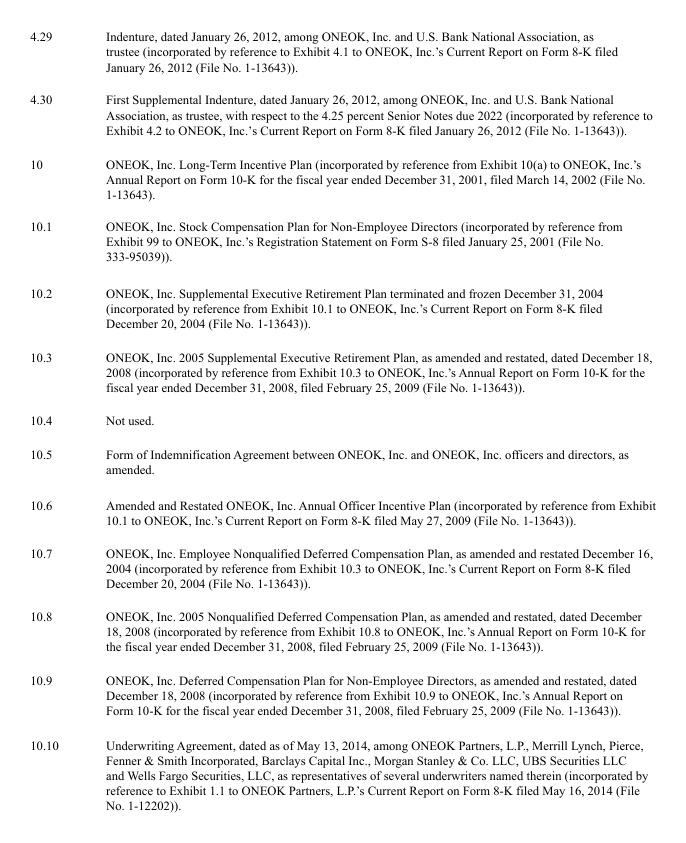table: (29, 28, 654, 811)
table column: (81, 28, 654, 811), (29, 28, 81, 811)
table row: (29, 727, 654, 811), (29, 273, 654, 339), (29, 662, 654, 727), (29, 82, 654, 146), (29, 209, 654, 273), (29, 339, 654, 403), (29, 535, 654, 599), (29, 146, 654, 209), (29, 599, 654, 662), (29, 28, 654, 82), (29, 436, 654, 486), (29, 486, 654, 535), (29, 403, 654, 436)
